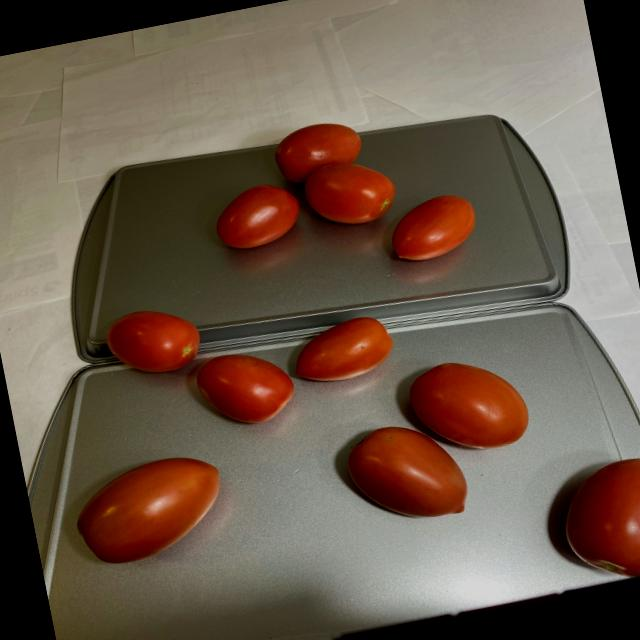tomato: (42, 219, 640, 640), (199, 97, 485, 298)
